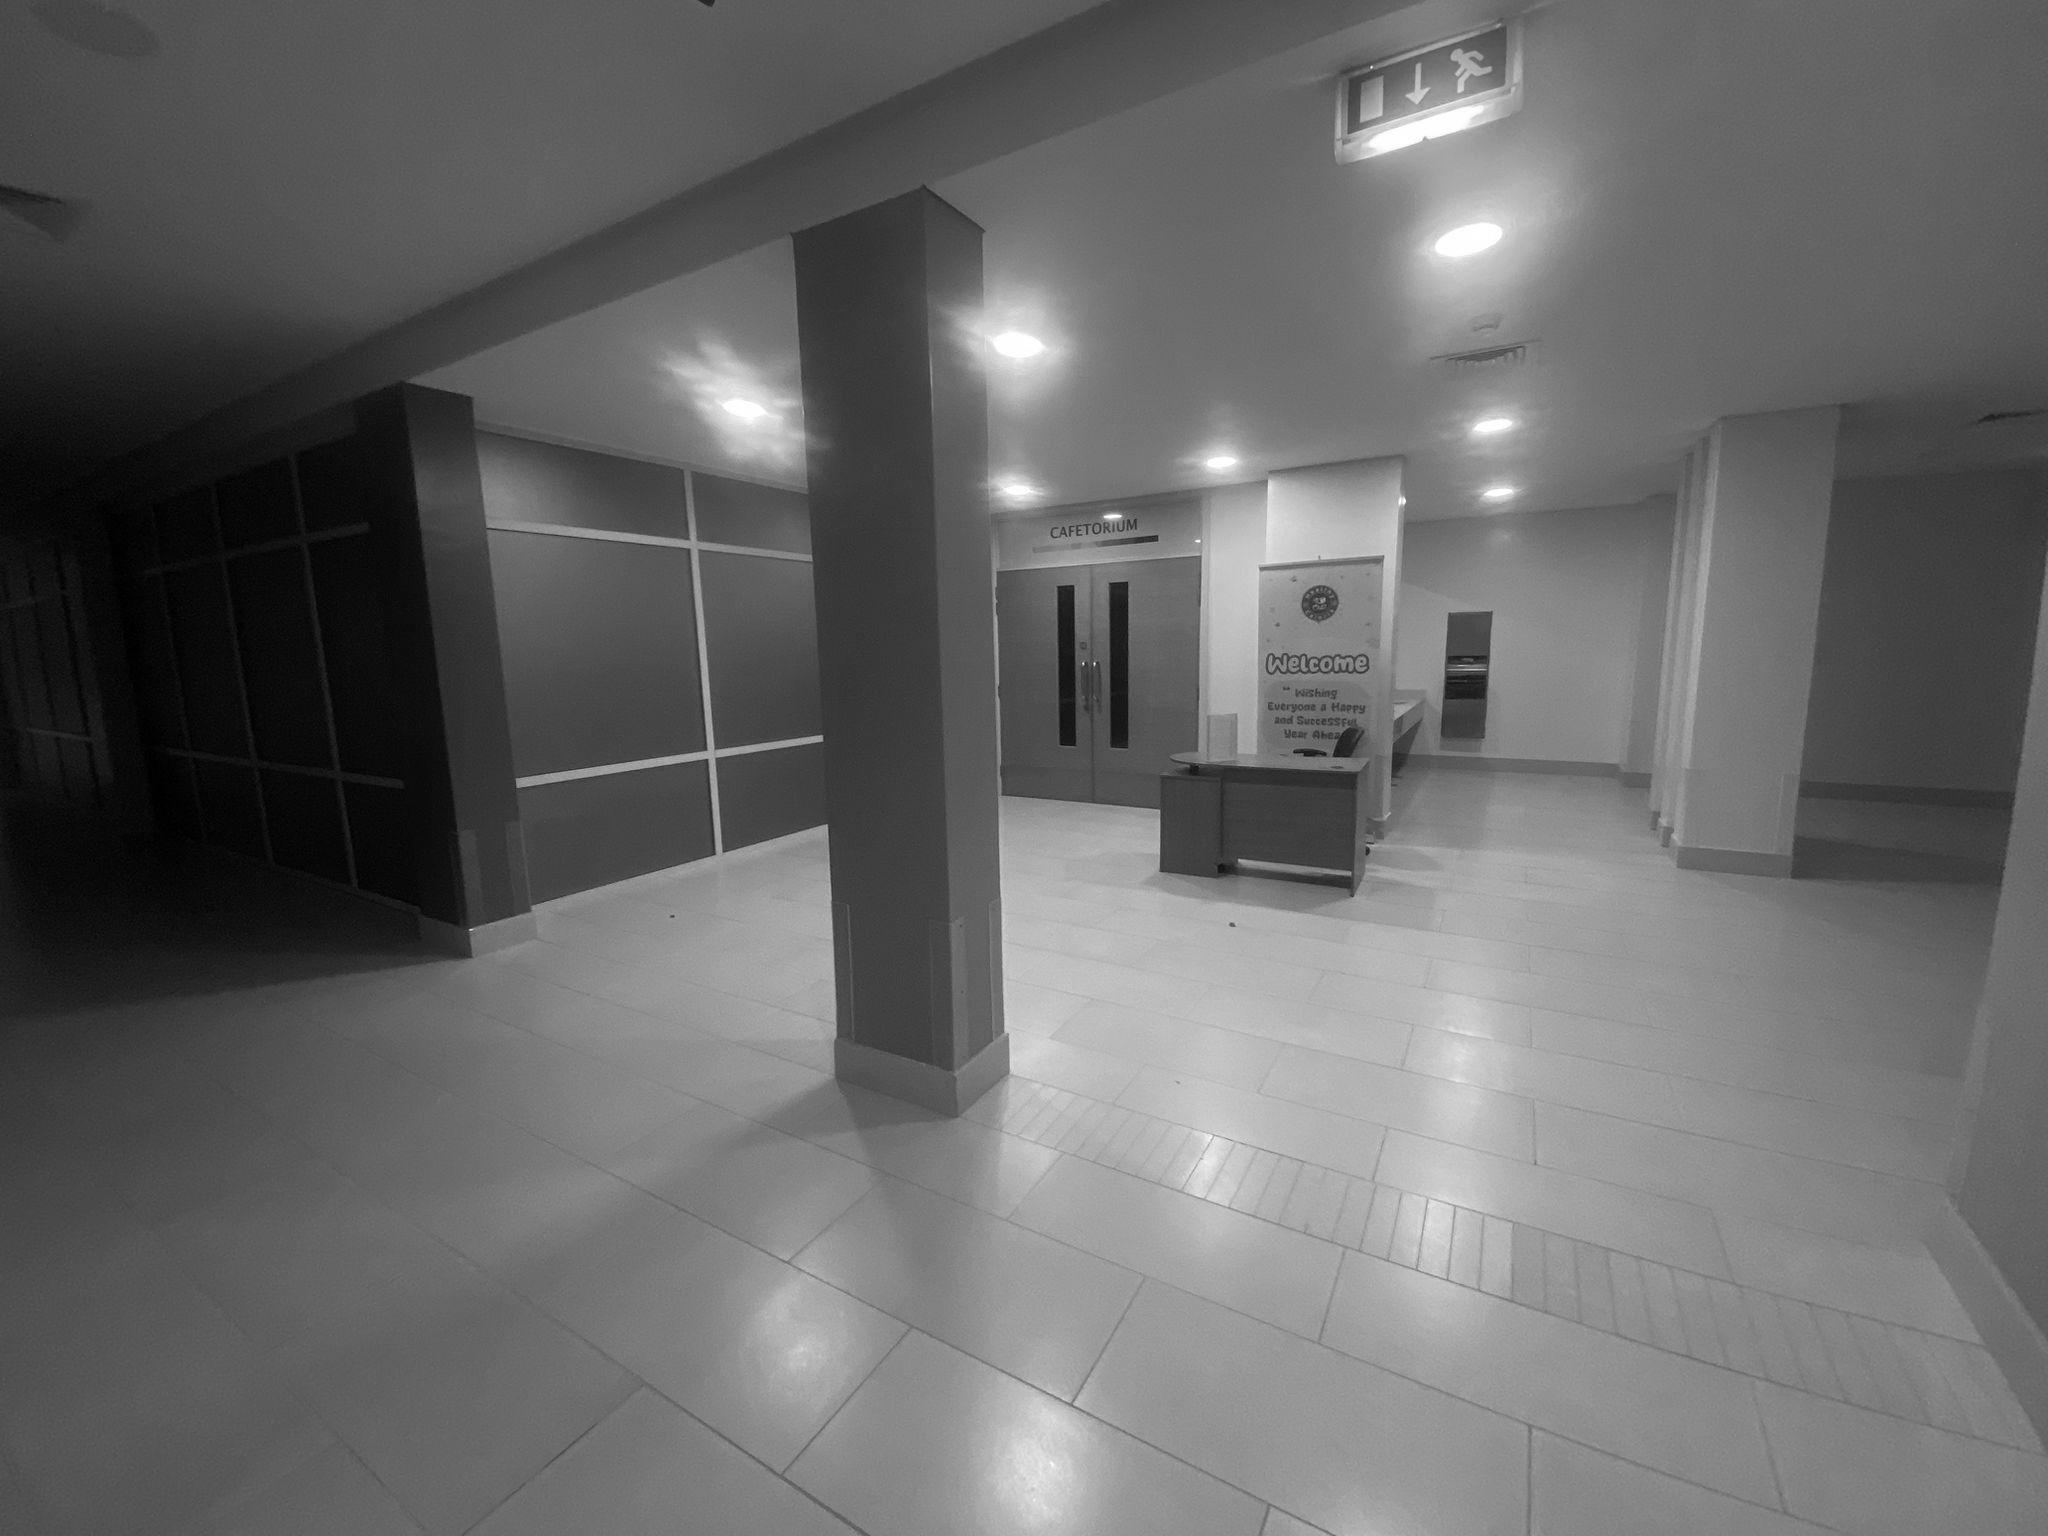Pillar: (793, 189, 1009, 1113), (355, 384, 535, 954), (1651, 407, 1840, 874), (1658, 407, 1838, 876), (1266, 457, 1405, 831), (1617, 495, 1672, 774)
Table: (1159, 752, 1367, 894)
Wall: (1803, 471, 2046, 802), (1384, 499, 1672, 773), (1203, 486, 1264, 747)
